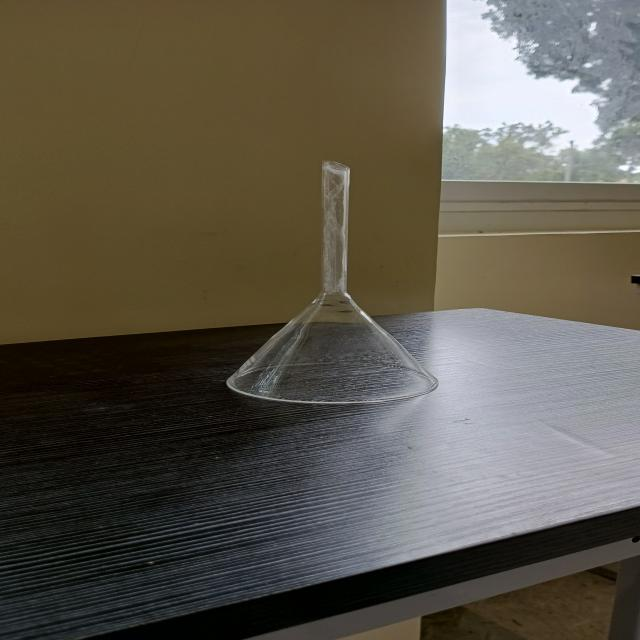funnel: (215, 158, 447, 407)
